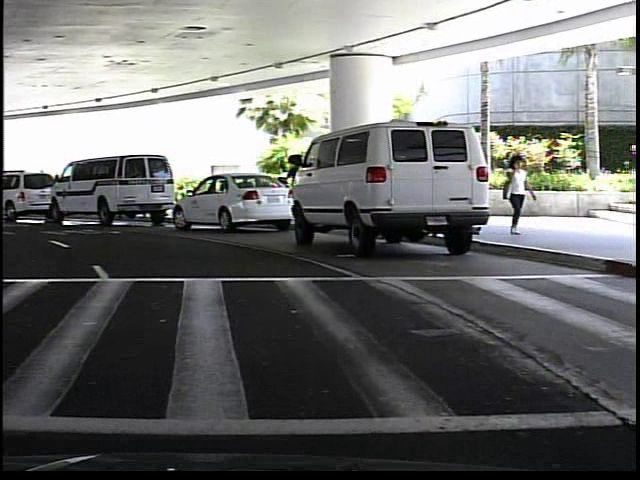person: (497, 149, 533, 240)
